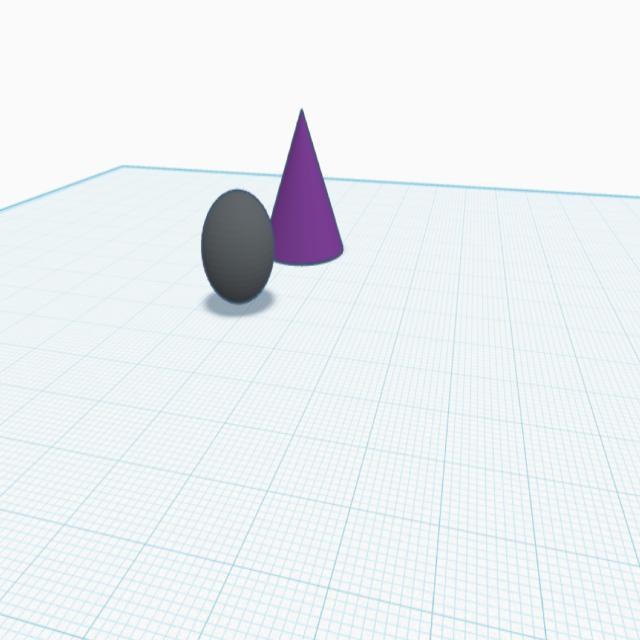sphere: (198, 183, 277, 309)
